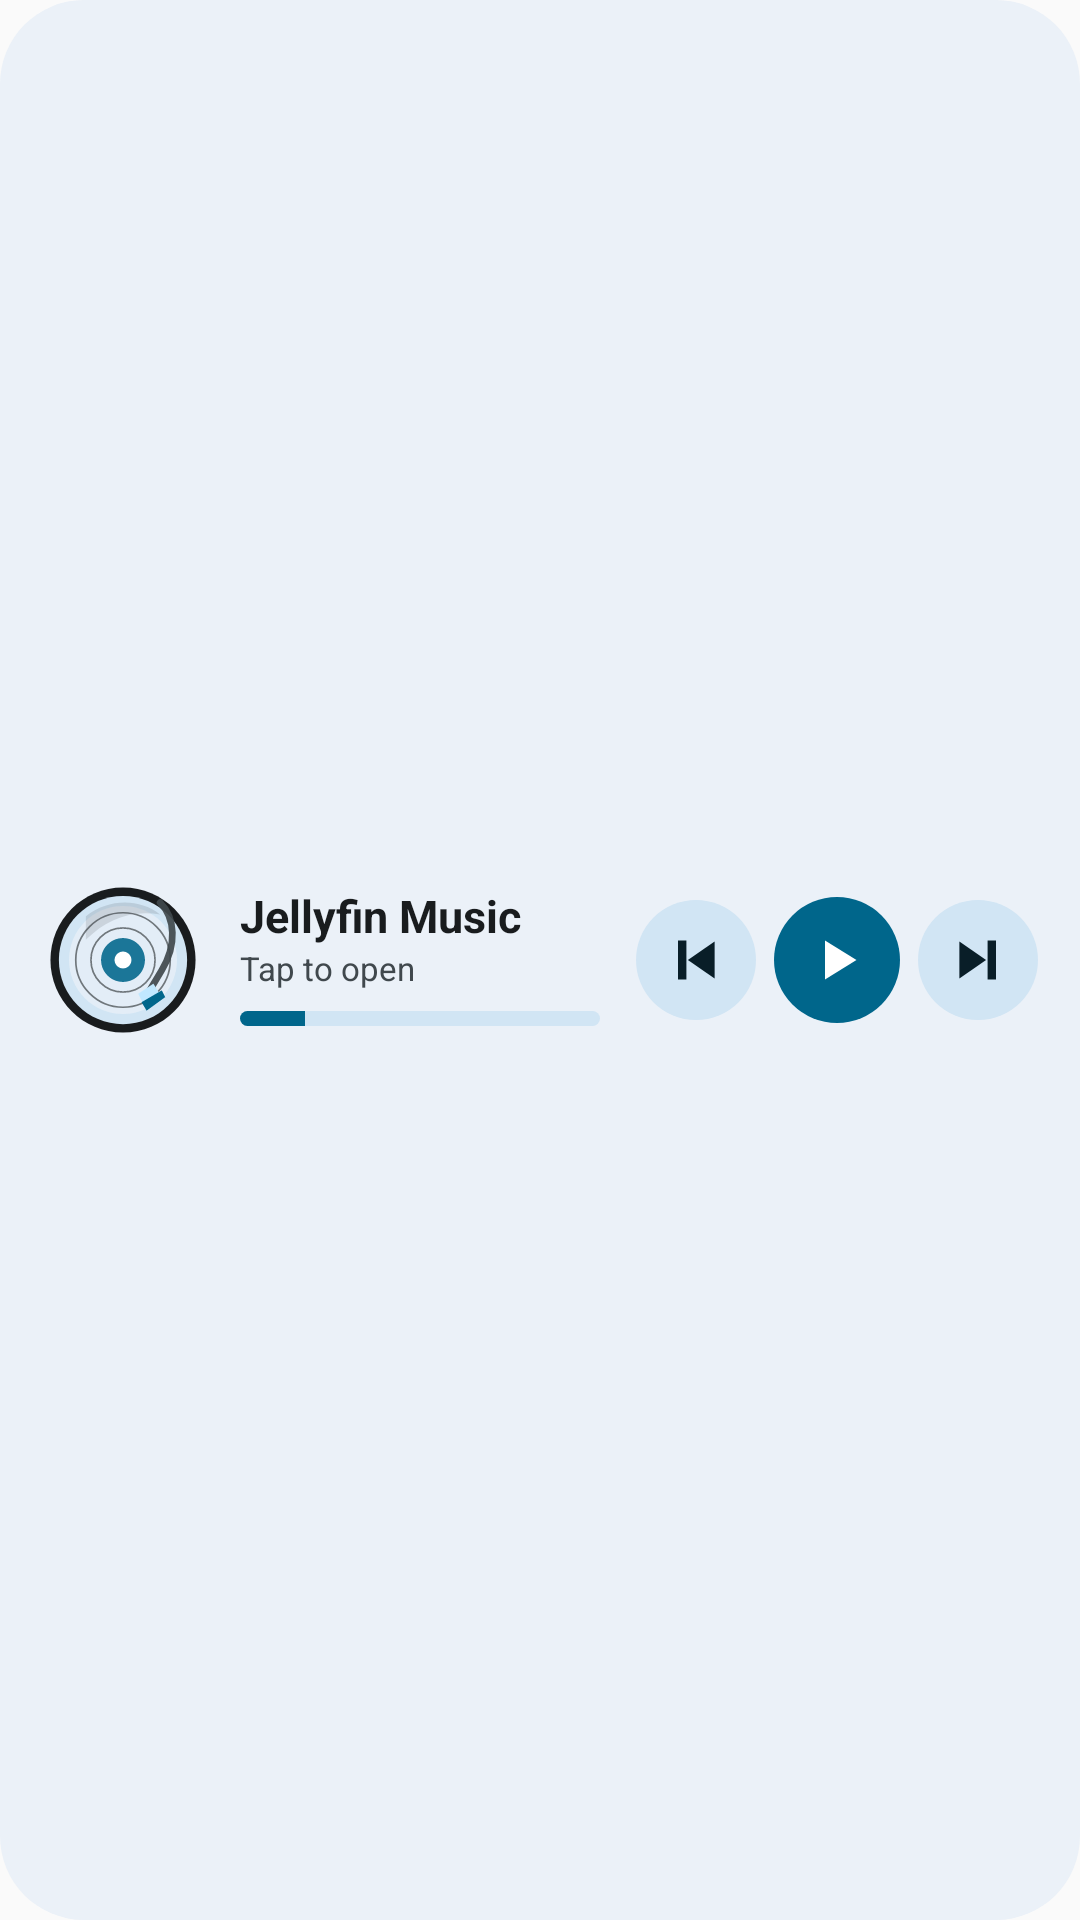

Screen size 1080px x 1920px. Icon name, then its center in pixels as point (x, y):
Next: point (978, 960)
Play or pause: point (837, 960)
Previous: point (696, 960)
